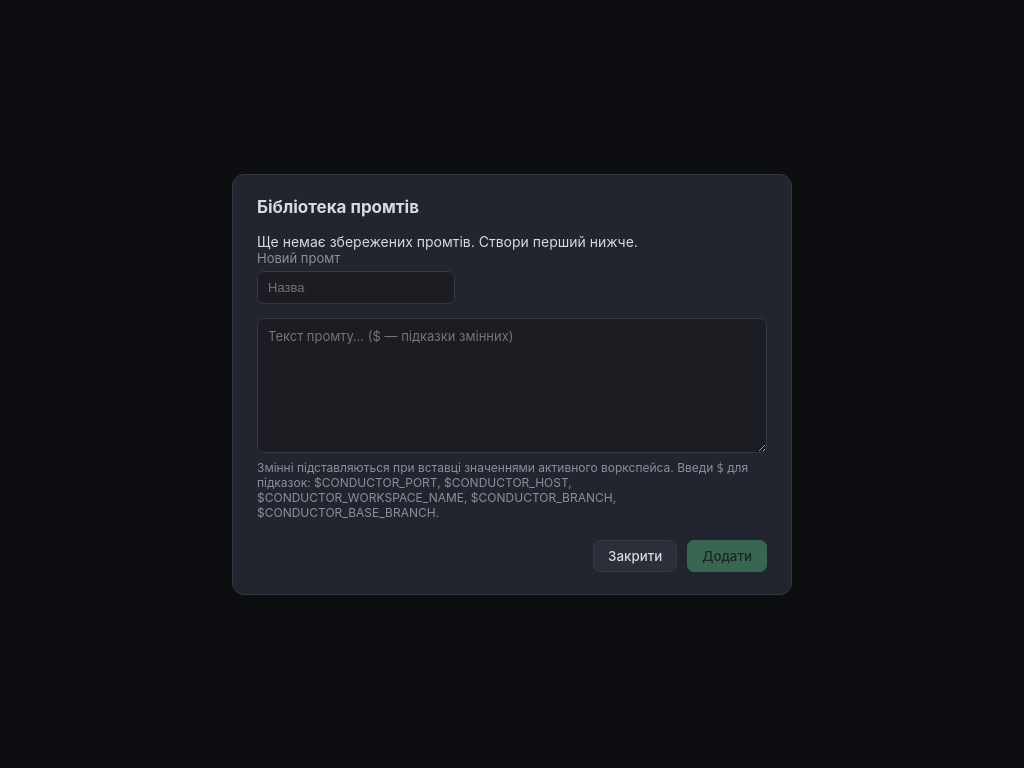
Test: PromptLibraryModal › filters the variable menu by the typed partial
In the text box with placeholder "Текст промту… ($ — підказки змінних)": [512, 385] box [257,318,767,452], type "$port"
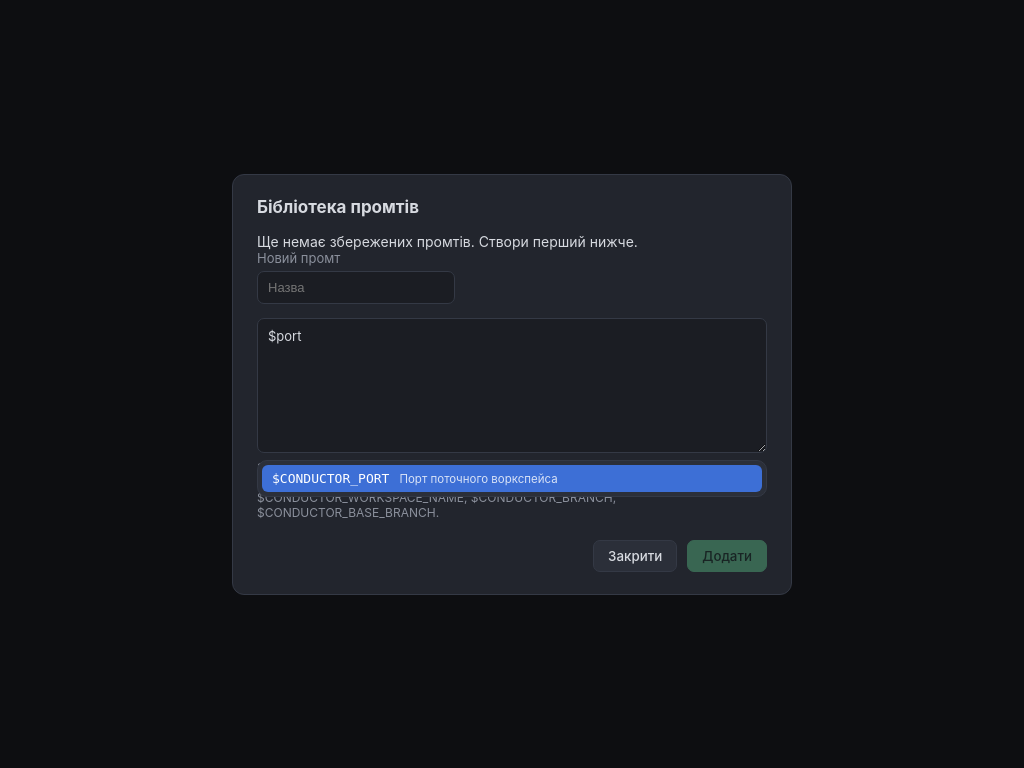
Expected: the text "$CONDUCTOR_PORT" is shown, [272,470,389,486]
